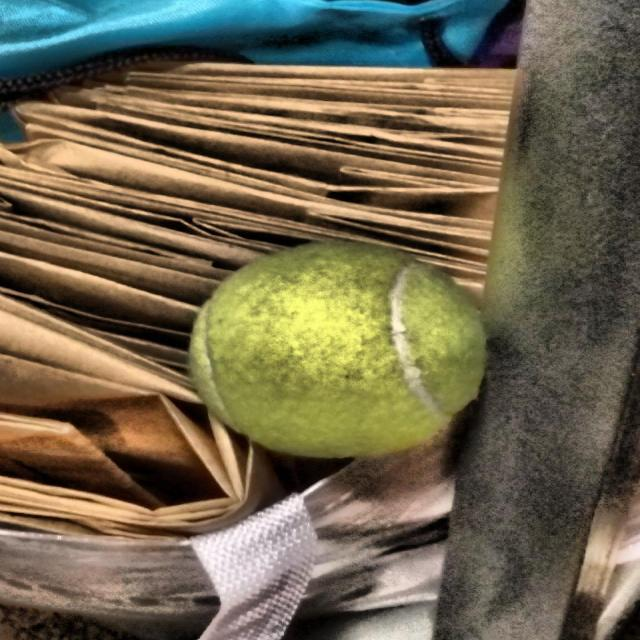tennis-ball: (182, 240, 506, 462)
